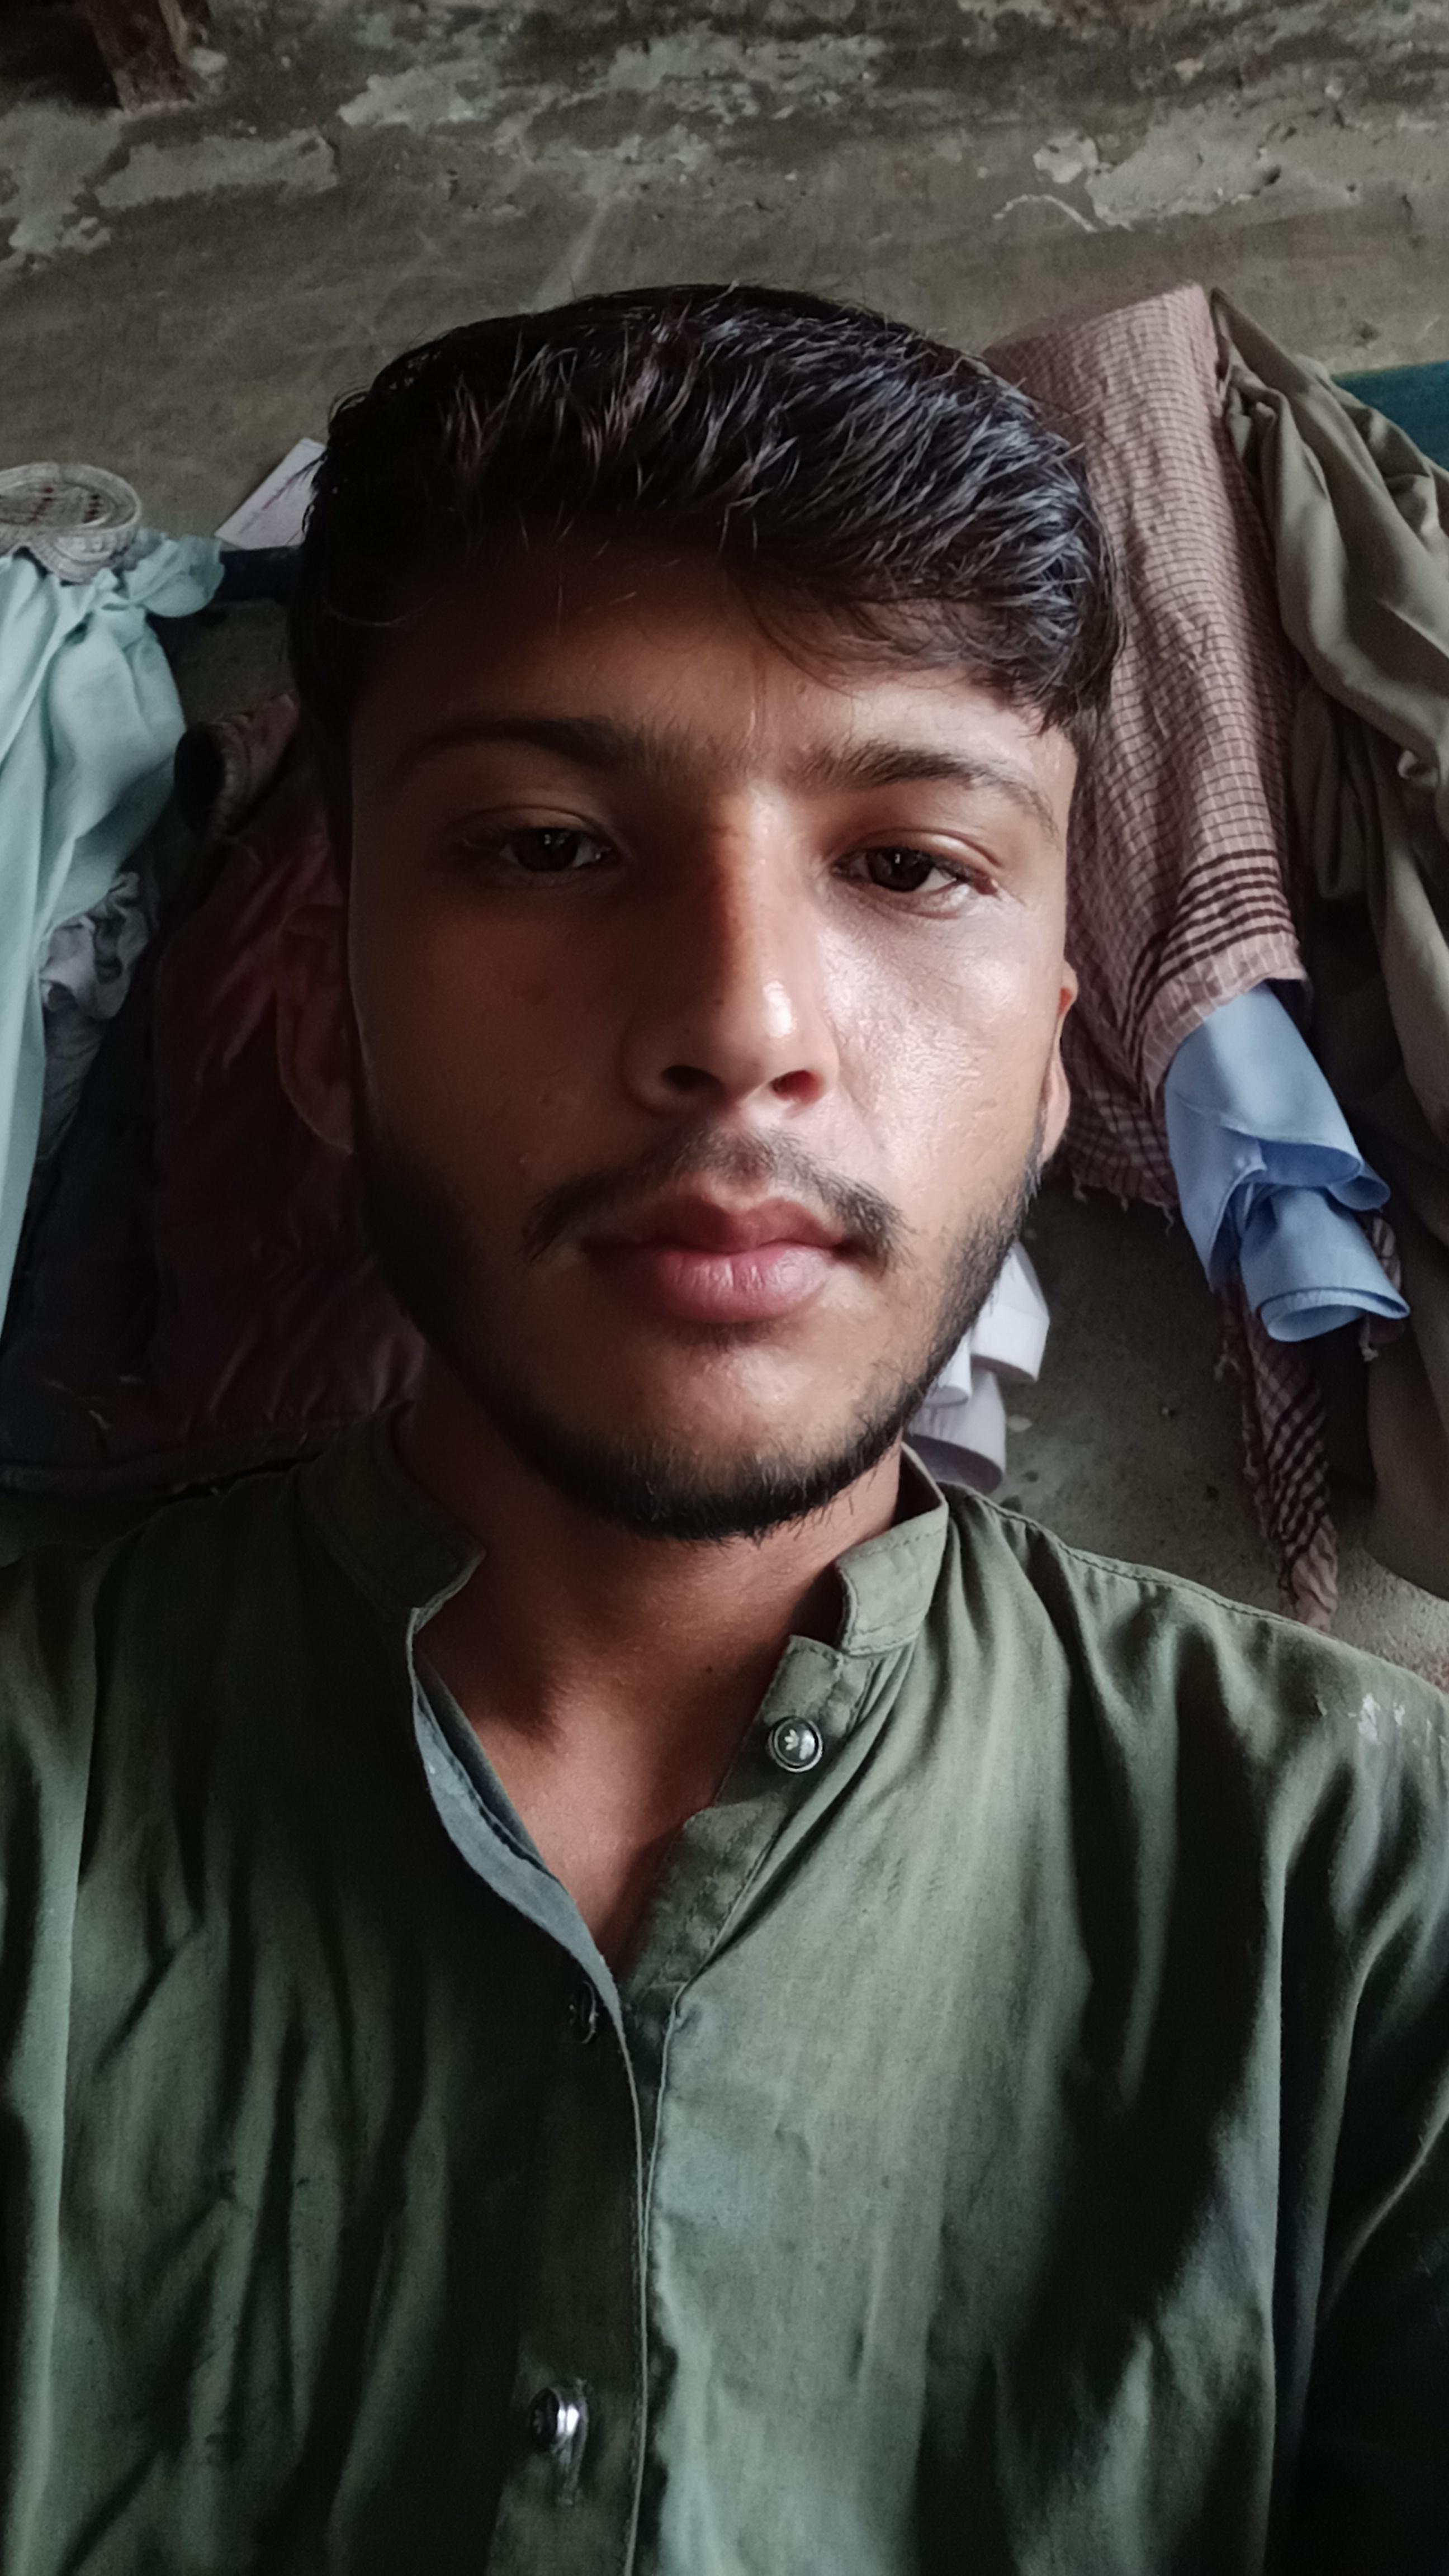Englarged-Pores: (842, 982, 998, 1145)
Eyebags: (817, 892, 1030, 971), (430, 886, 649, 950)
